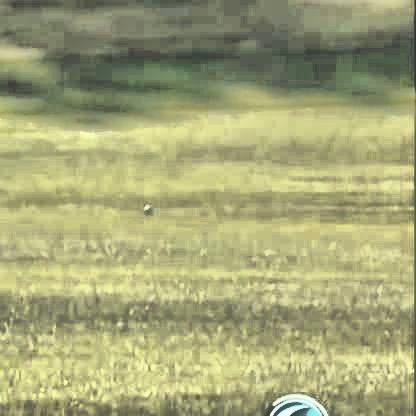golfball: (140, 199, 150, 210)
